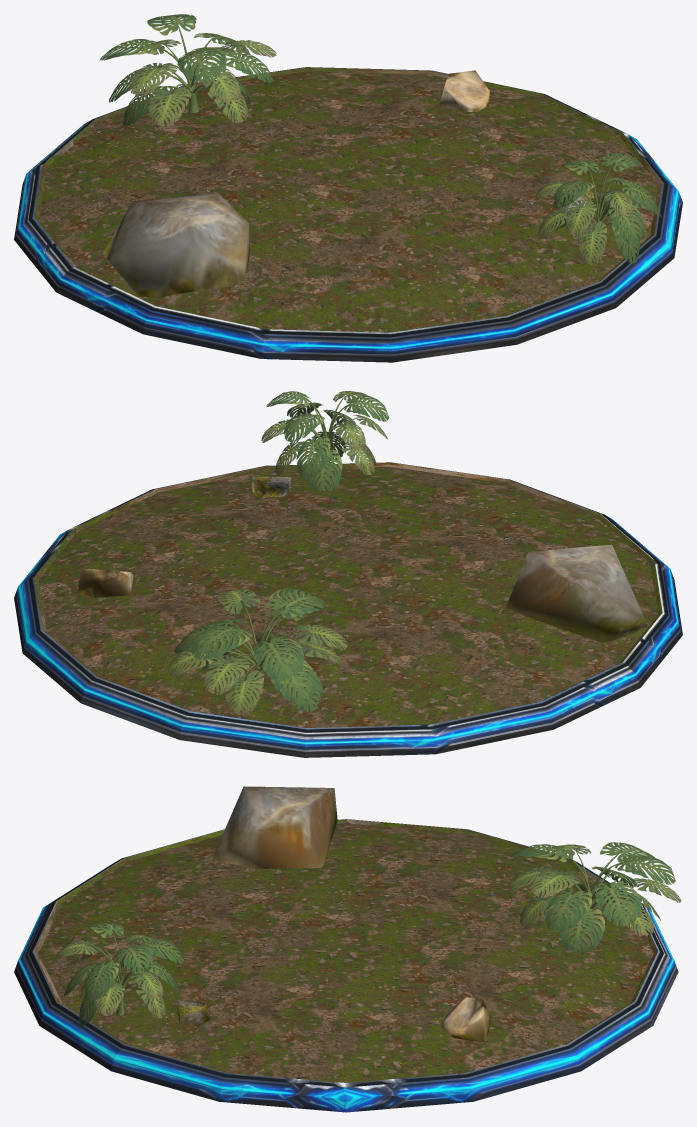
The picture shows the model from 3 angles, top to bottom: view 1: azimuth 30°, elevation 25°; view 2: azimuth 150°, elevation 25°; view 3: azimuth 270°, elevation 25°; orthographic projection.
Visible parts, largest first — view 1: Base.001, Pedra3.001, Planta2, Planta1, Pedra2.002; view 2: Base.001, Planta2, Pedra3.001, Planta1, Pedra2.002, Pedra1.002; view 3: Base.001, Planta2, Pedra3.001, Planta1, Pedra2.002, Pedra1.002.
Boxes of the visible parts, x1,y1,x2,y2 form: Base.001: [14, 67, 682, 362]; Pedra3.001: [103, 193, 250, 297]; Planta2: [100, 14, 276, 126]; Planta1: [534, 152, 661, 264]; Pedra2.002: [439, 70, 489, 111]; Base.001: [14, 462, 682, 757]; Planta2: [168, 588, 347, 715]; Pedra3.001: [506, 544, 647, 642]; Planta1: [261, 391, 389, 490]; Pedra2.002: [78, 568, 134, 597]; Pedra1.002: [252, 476, 291, 497]; Base.001: [14, 819, 678, 1112]; Planta2: [507, 842, 681, 953]; Pedra3.001: [212, 786, 337, 869]; Planta1: [57, 923, 183, 1025]; Pedra2.002: [441, 997, 491, 1042]; Pedra1.002: [177, 999, 210, 1026].
Bounding box in the file's own units: 4.13 × 0.7047 × 4.16.
4 materials, 4 textured.
